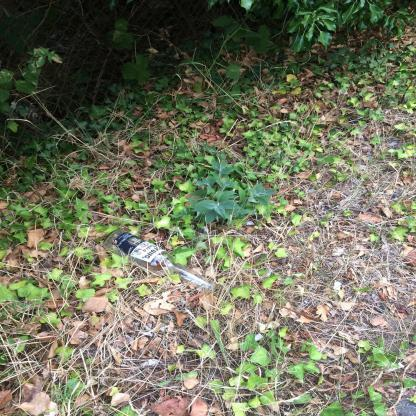cam: (104, 229, 218, 295)
